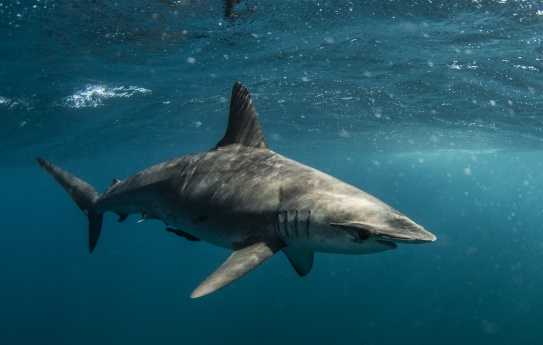Hammer: (34, 78, 445, 303)
